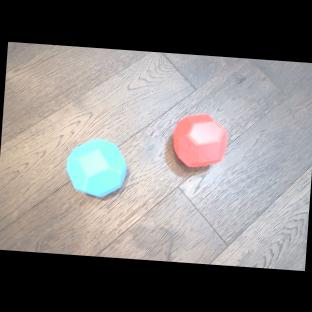V5_BLUE: (63, 136, 129, 200)
V5_RED: (169, 111, 228, 173)
